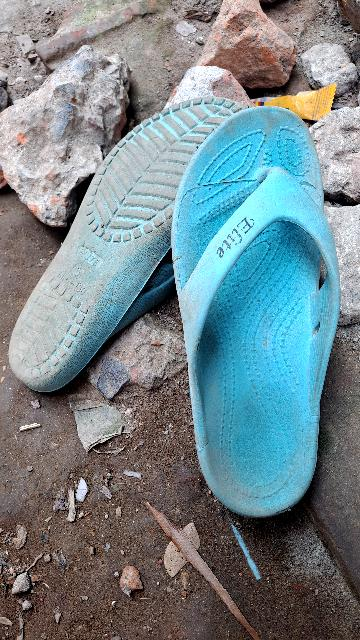sandal: (0, 41, 287, 402), (167, 100, 334, 510)
